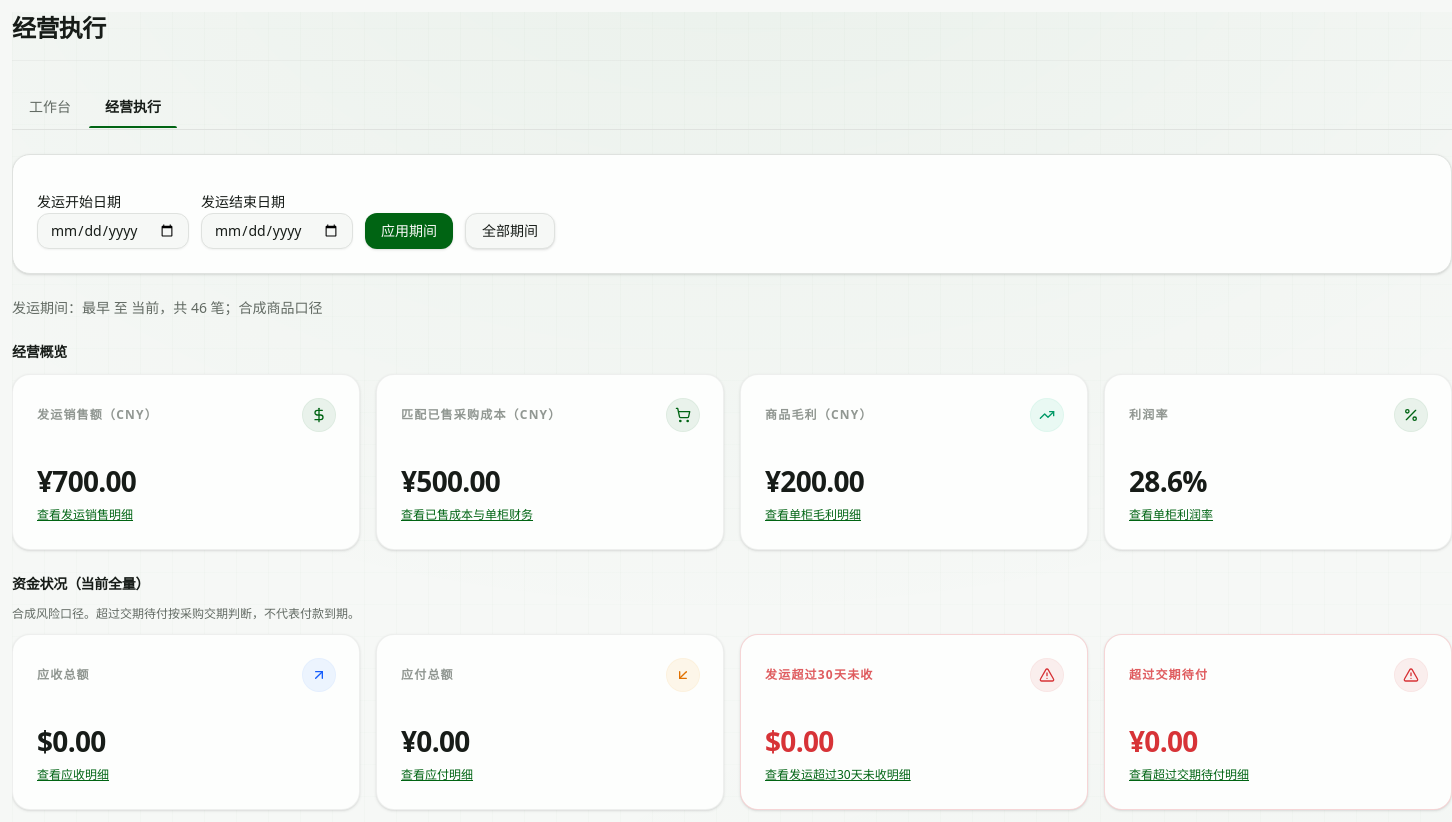
Test: 经营执行应用期间返回上下文 › 应用后立即重置，晚到 success 不覆盖最新期间/状态
This screenshot has width=1452, height=822.
Expected: the text "¥200.00" is shown, [765,462,864,500]
Step 1. Type "2026-10-05" into the date field labelled "发运开始日期" → (113, 231), box [37,213,189,249]
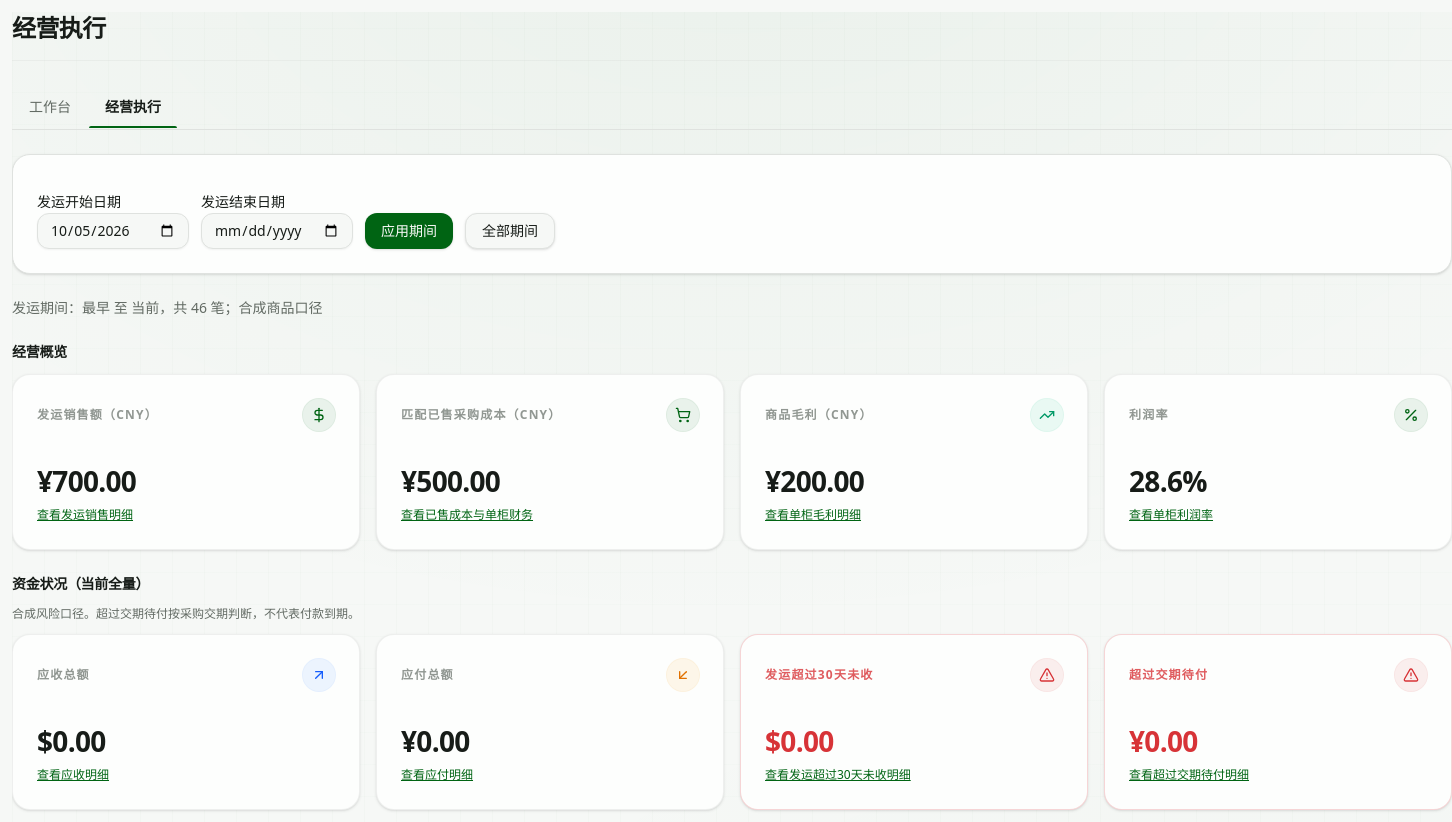
Step 2. Type "2026-10-05" into the date field labelled "发运结束日期" → (277, 231), box [201,213,353,249]
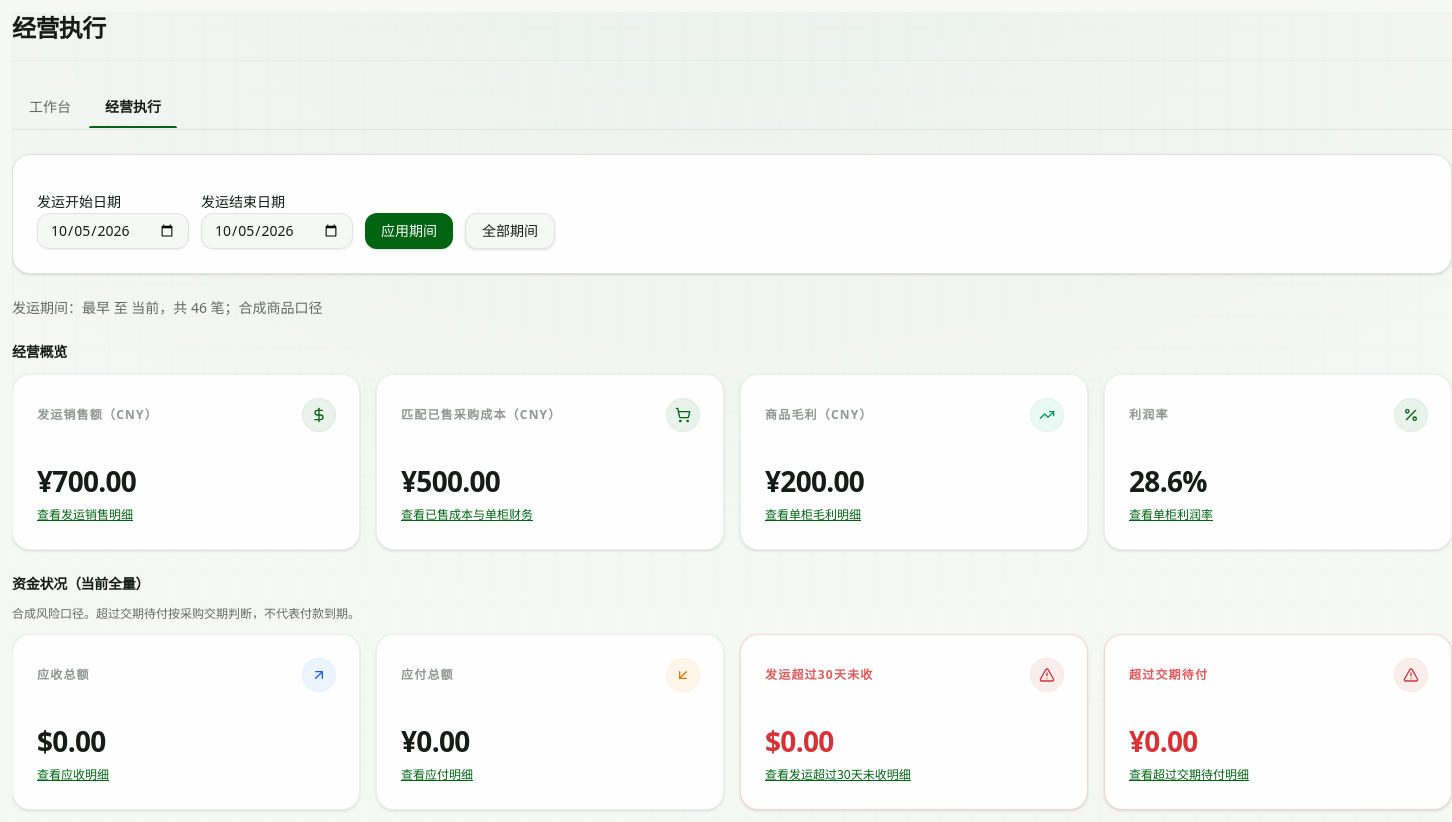
Step 3. Click the button "应用期间" → (409, 231), box [365,213,453,249]
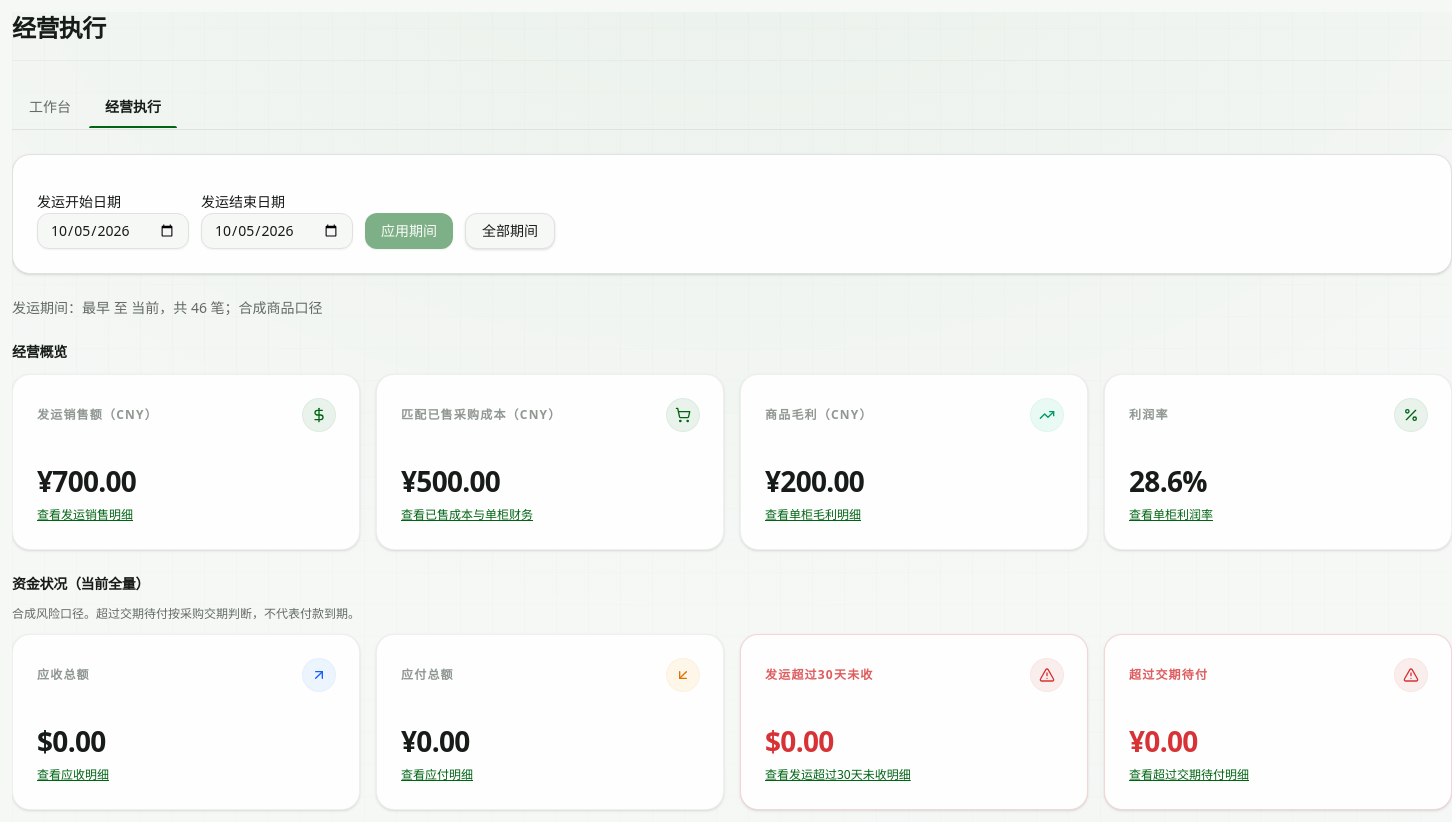
Step 4. Click the button "全部期间" → (510, 231), box [465,213,555,249]
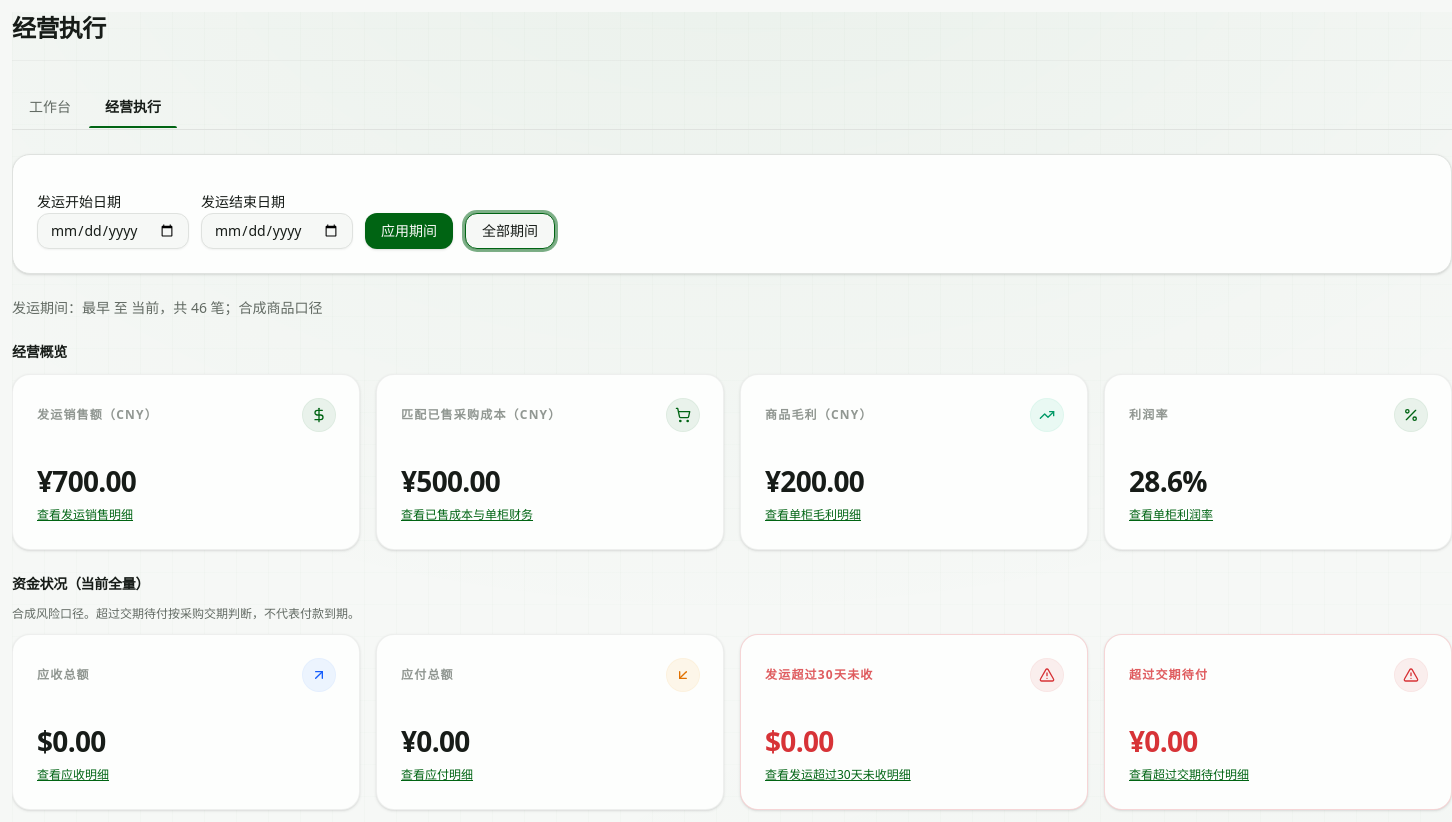
Expected: the text "发运期间：最早 至 当前，共 46 笔；合成商品口径" is shown, [12,298,323,317]
Result: the button "应用期间" is enabled at [365,213,453,249]
